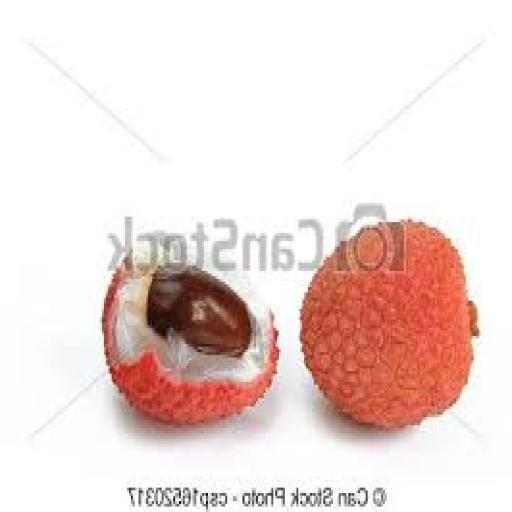lychee: (300, 223, 476, 428), (102, 255, 278, 422)
